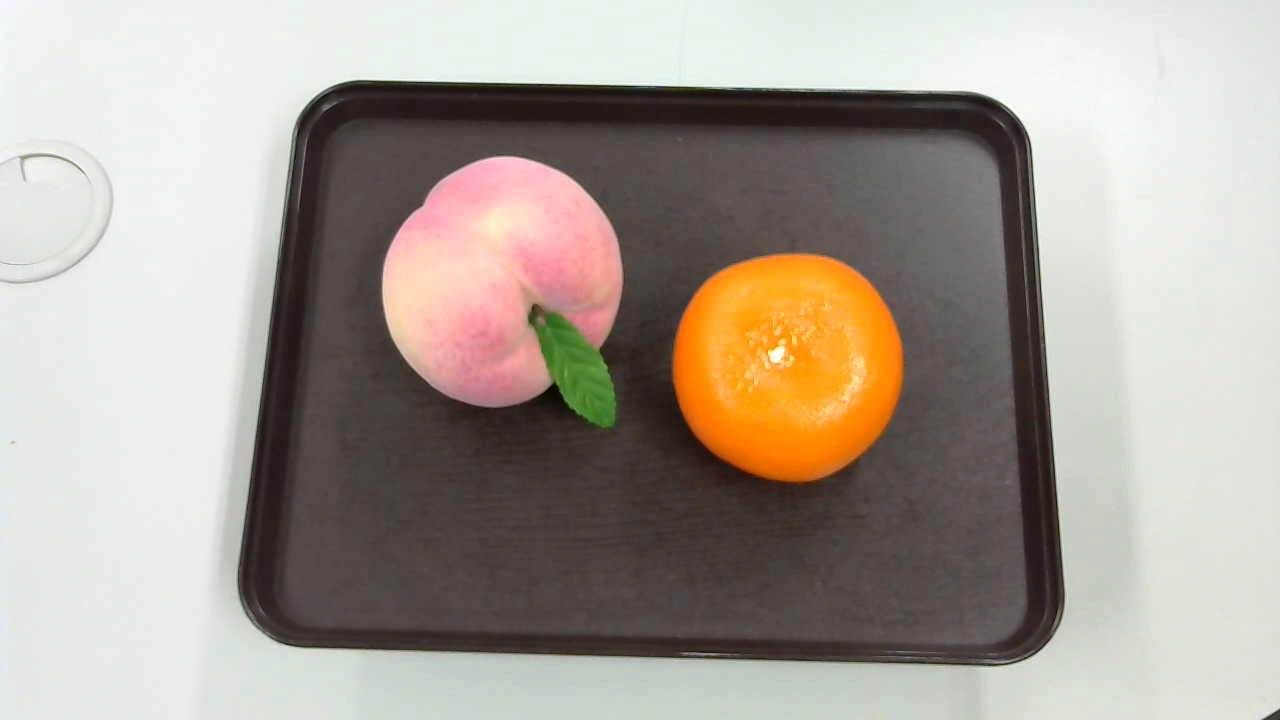orange: (666, 251, 912, 491)
peach: (375, 155, 626, 430)
